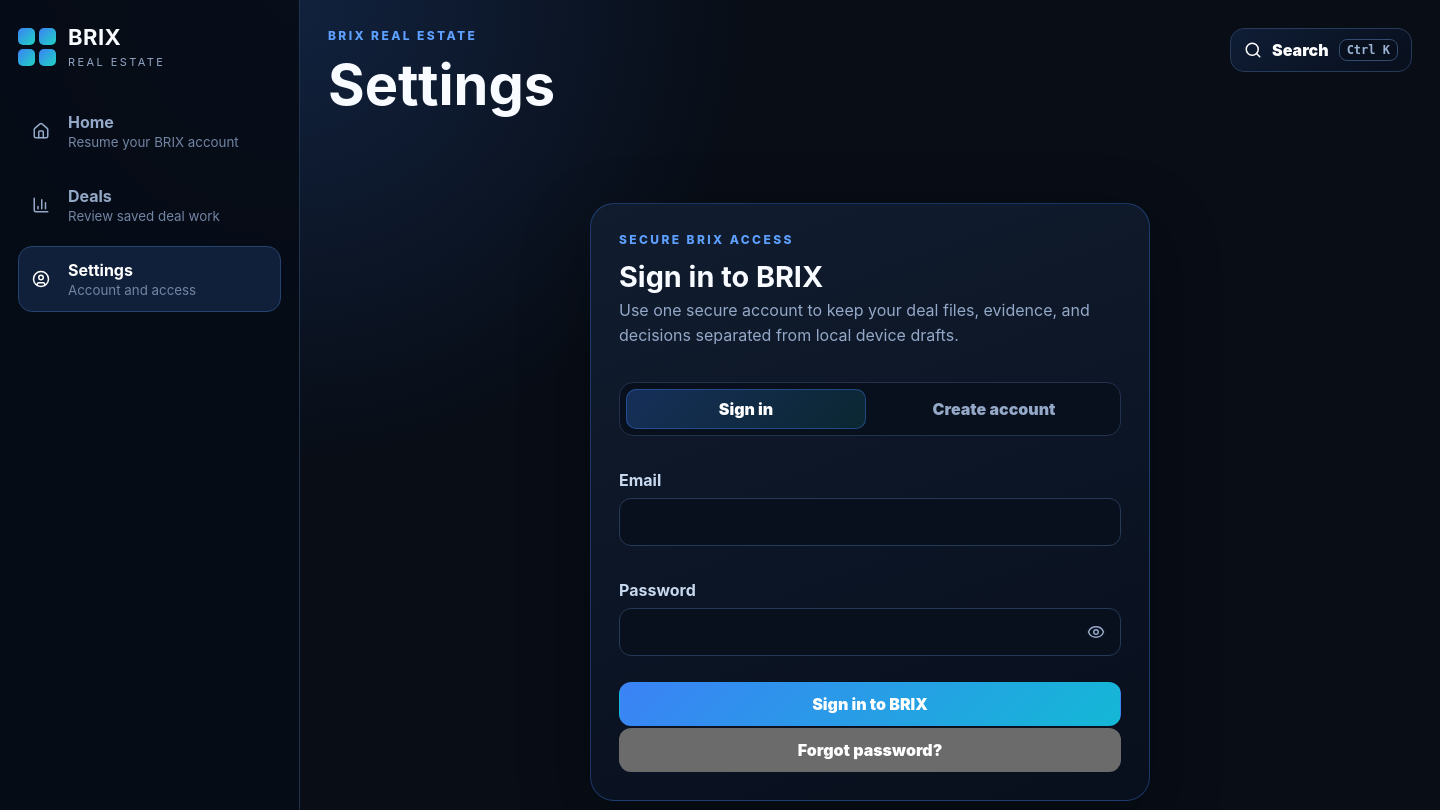
Test: BRIX app module flow › creates an account and hands the signed-in user into workspace bootstrap when Supabase returns a session
Expected: the heading "Sign in to BRIX" is shown, 619,259 -> 823,294
Click the tab "Create account" at (994, 409), box 874,389 -> 1114,429
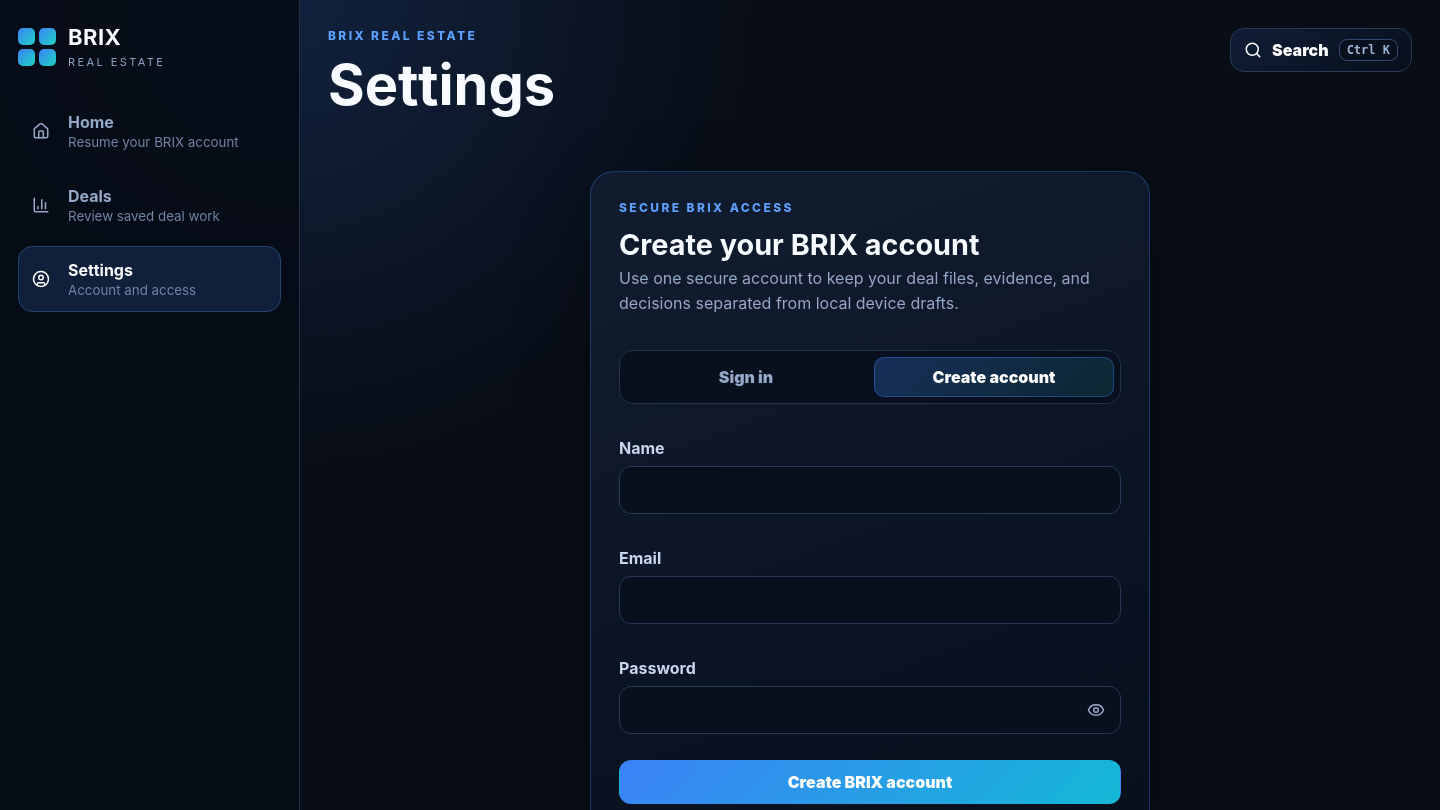
Type "New User" into the field labelled "Name" at (870, 490), box 619,466 -> 1121,514
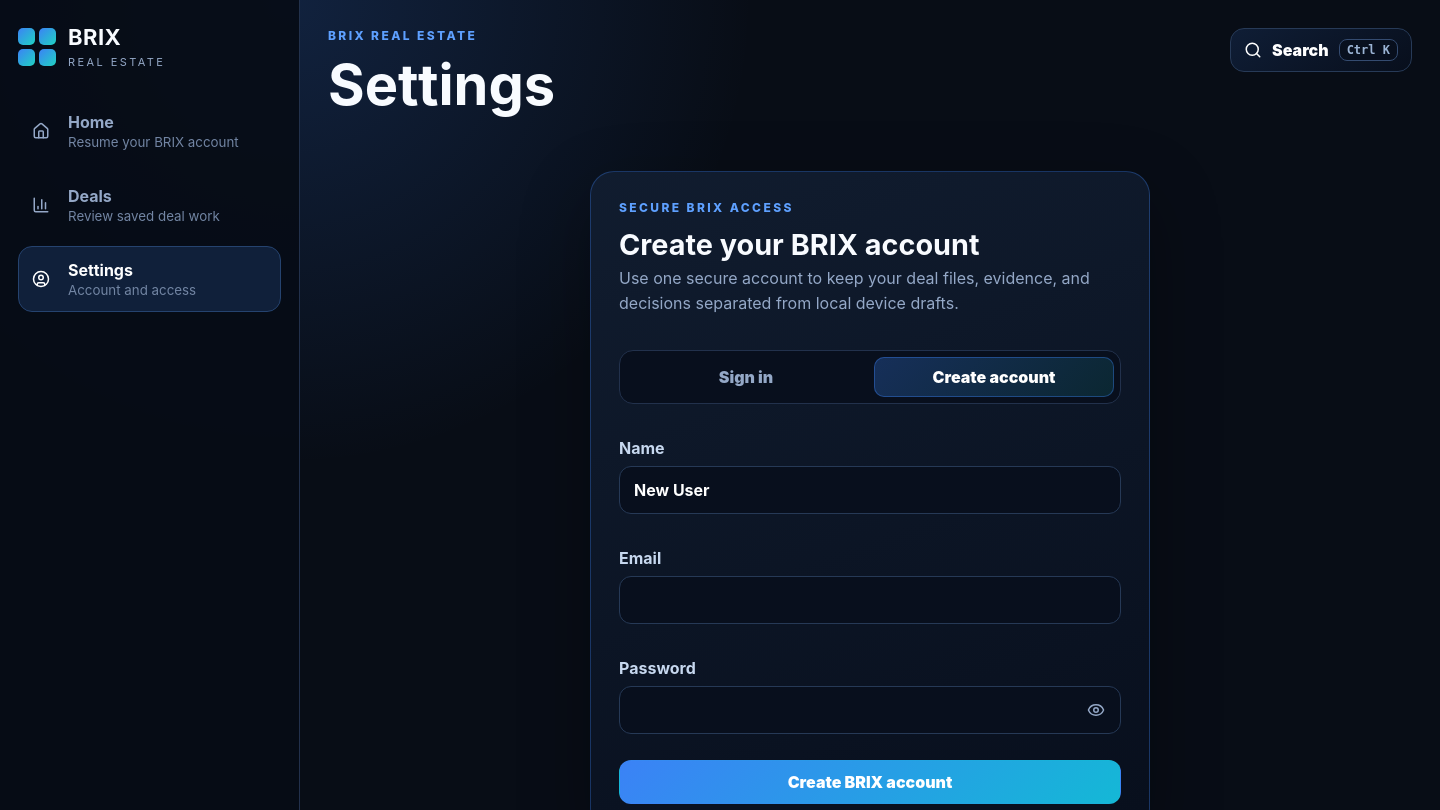
Type "new@example.com" into the field labelled "Email" at (870, 600), box 619,576 -> 1121,624
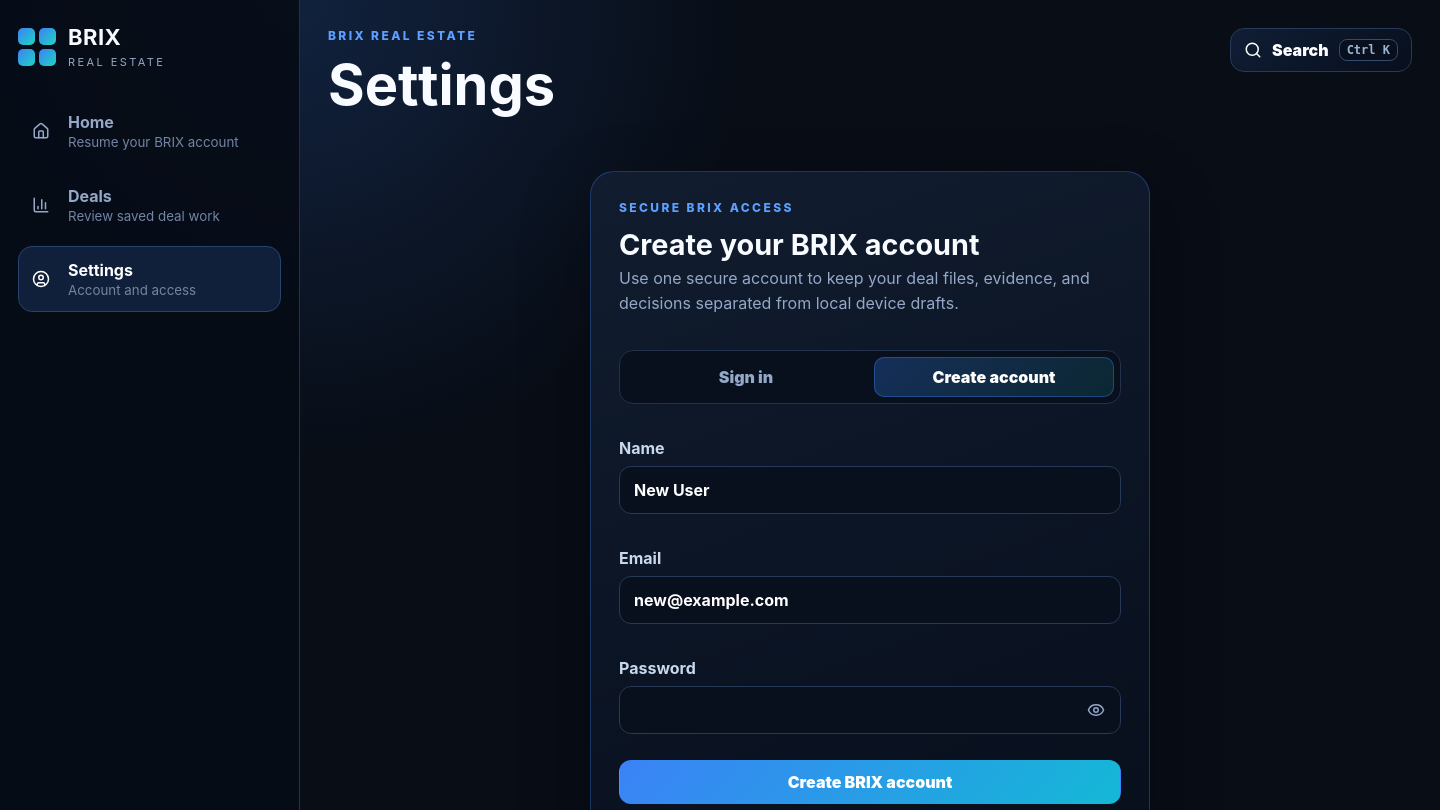
Type "password123" into the password field labelled "Password" at (870, 710), box 619,686 -> 1121,734
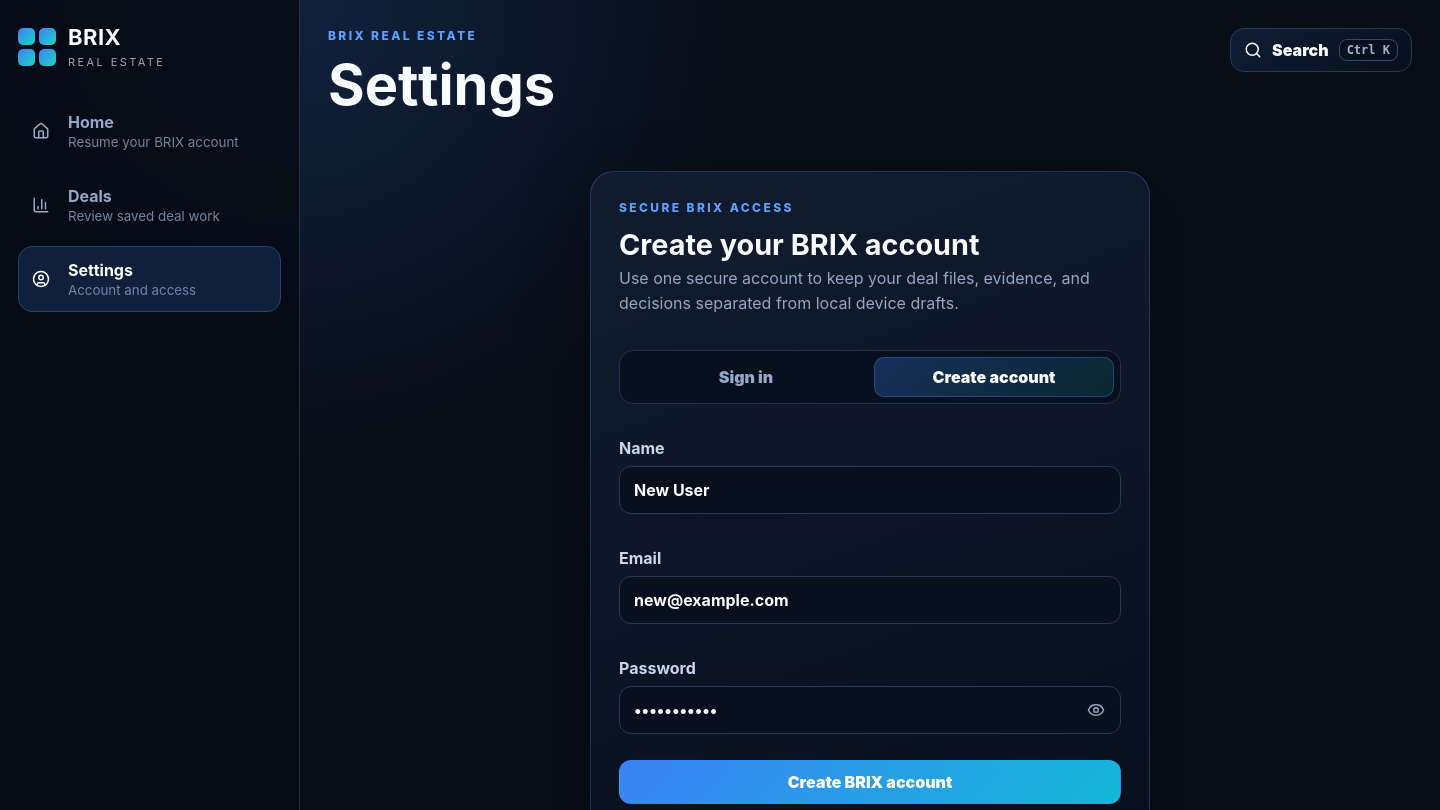
Click the button "Create BRIX account" at (870, 782), box 619,760 -> 1121,804
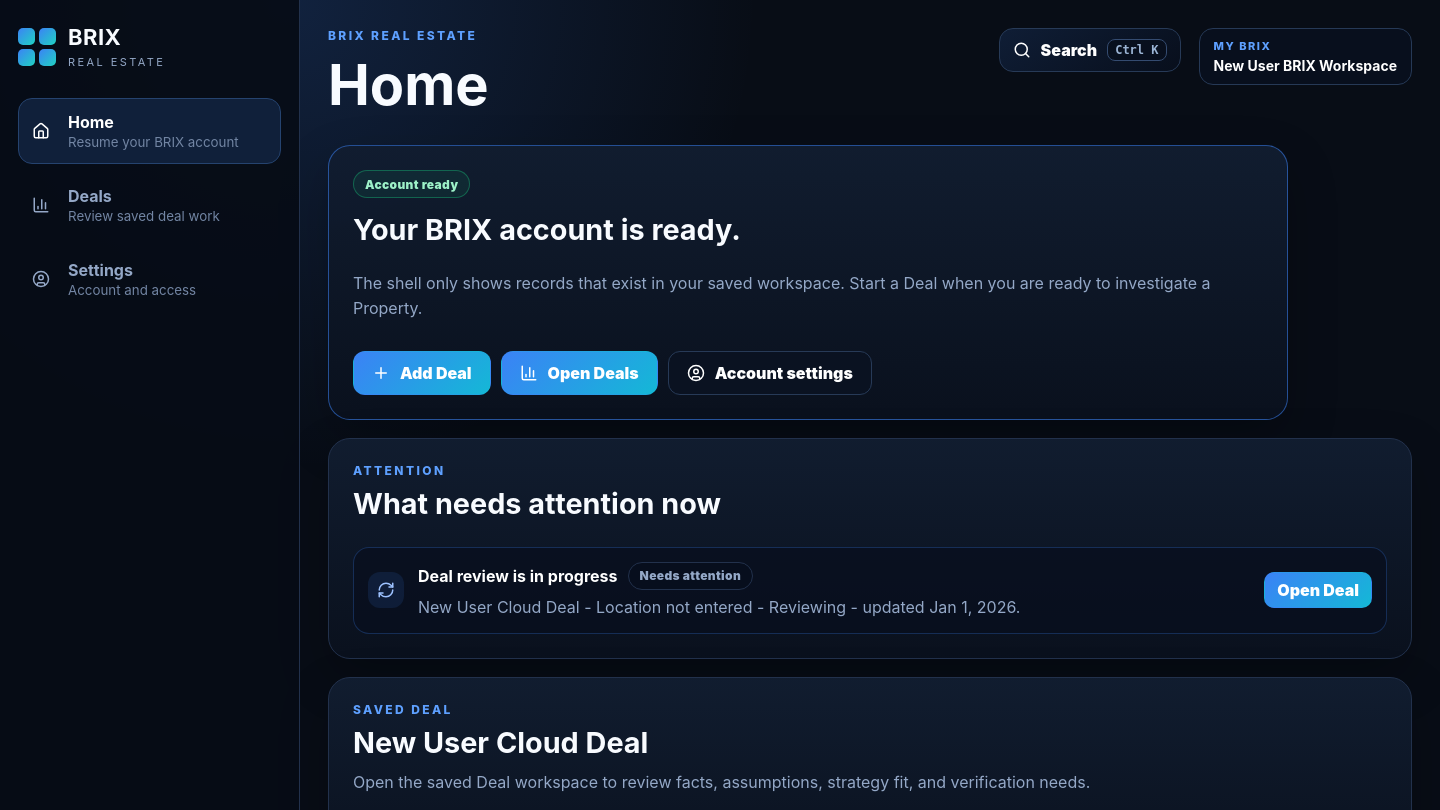
Result: the heading "New User Cloud Deal" is shown at 353,725 -> 648,760
